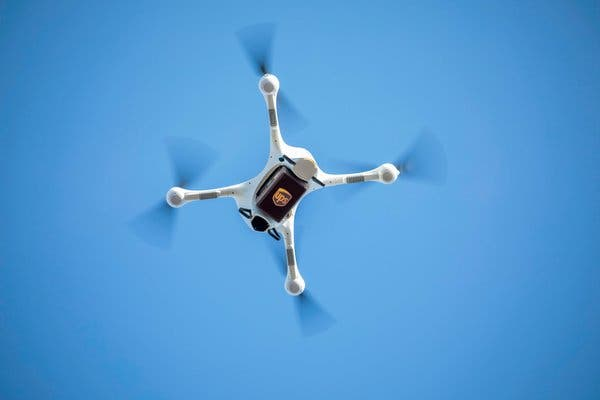drone: (125, 17, 461, 343)
